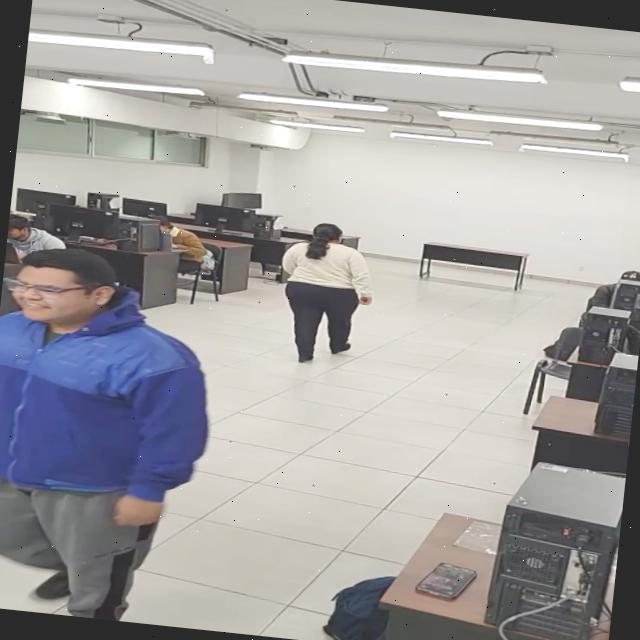Persona: (0, 234, 233, 628), (265, 215, 386, 374)
